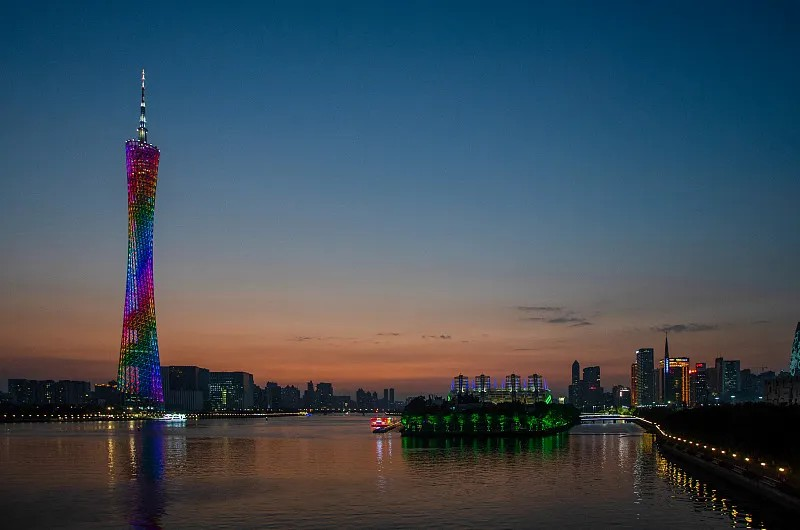Canton: (114, 69, 168, 413)
